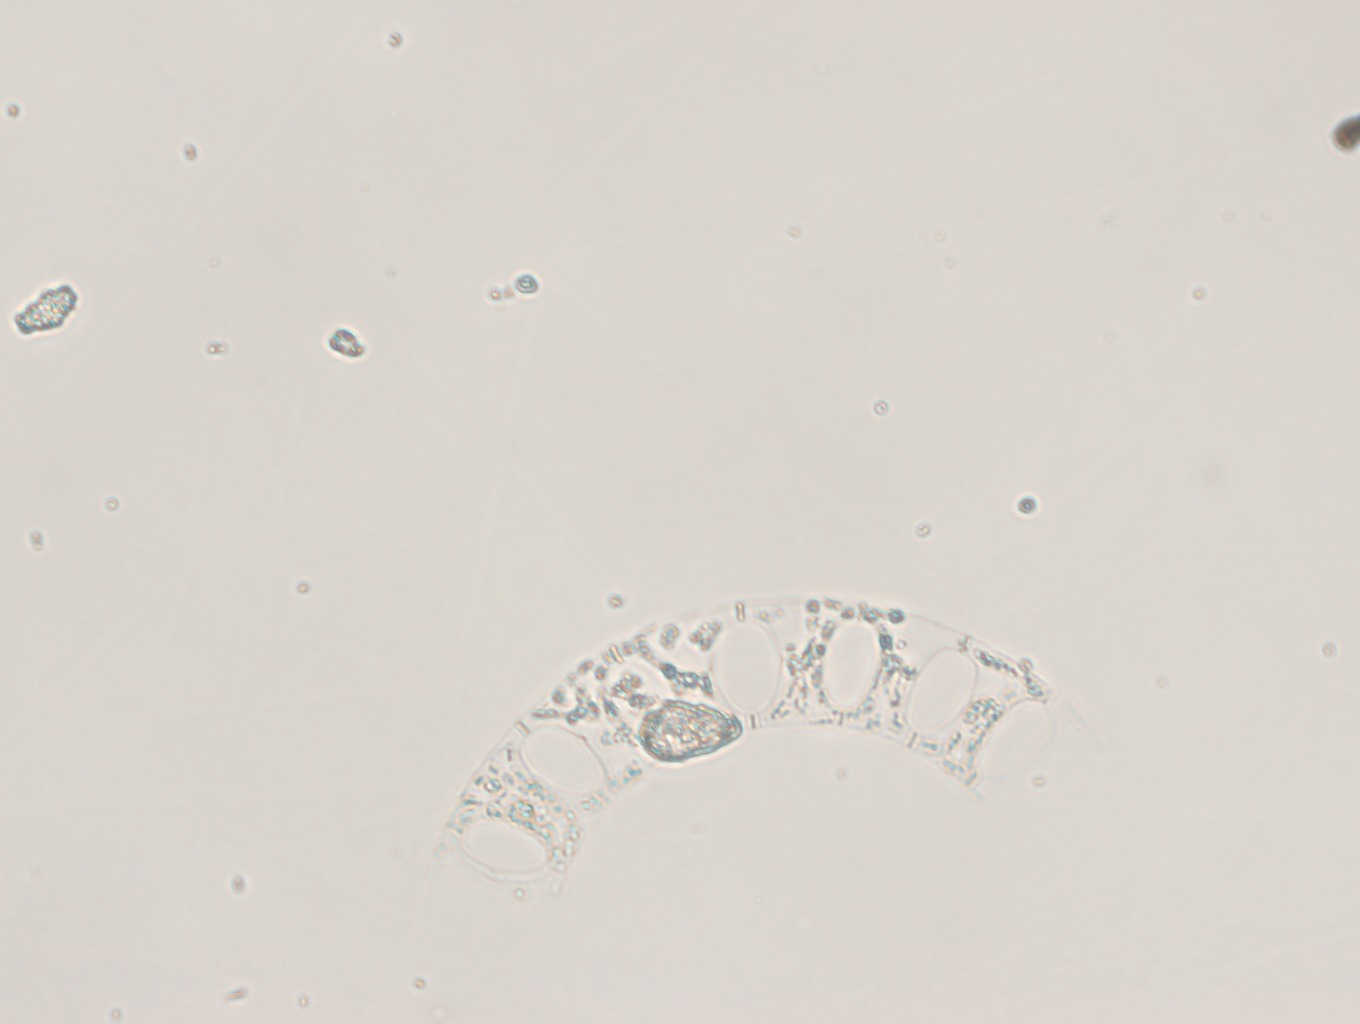eucampia: (434, 596, 1059, 894)
